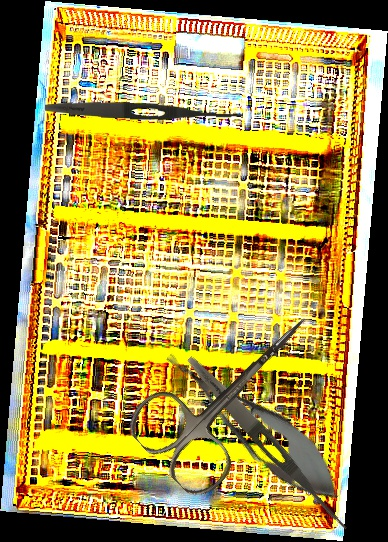Dressing Forceps: (181, 351, 357, 537), (44, 98, 244, 124)
Iris Scissors: (119, 279, 347, 505)
Micro Scissor: (150, 334, 357, 518)
